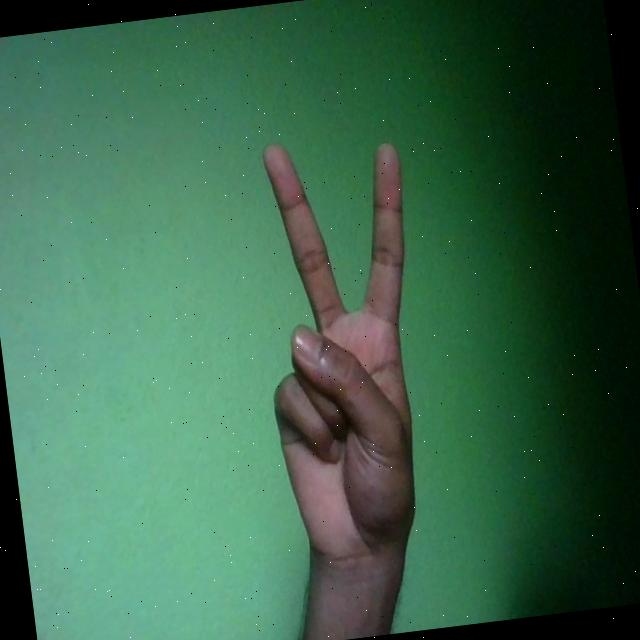Fist: (241, 126, 450, 578)
